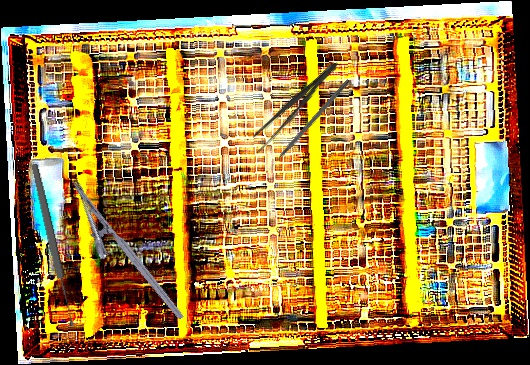Dressing Forceps: (244, 55, 344, 157)
Hook Surgical: (264, 78, 351, 174)
Needle Holder: (51, 177, 186, 336)
Surgical Spoon: (29, 163, 77, 327)
